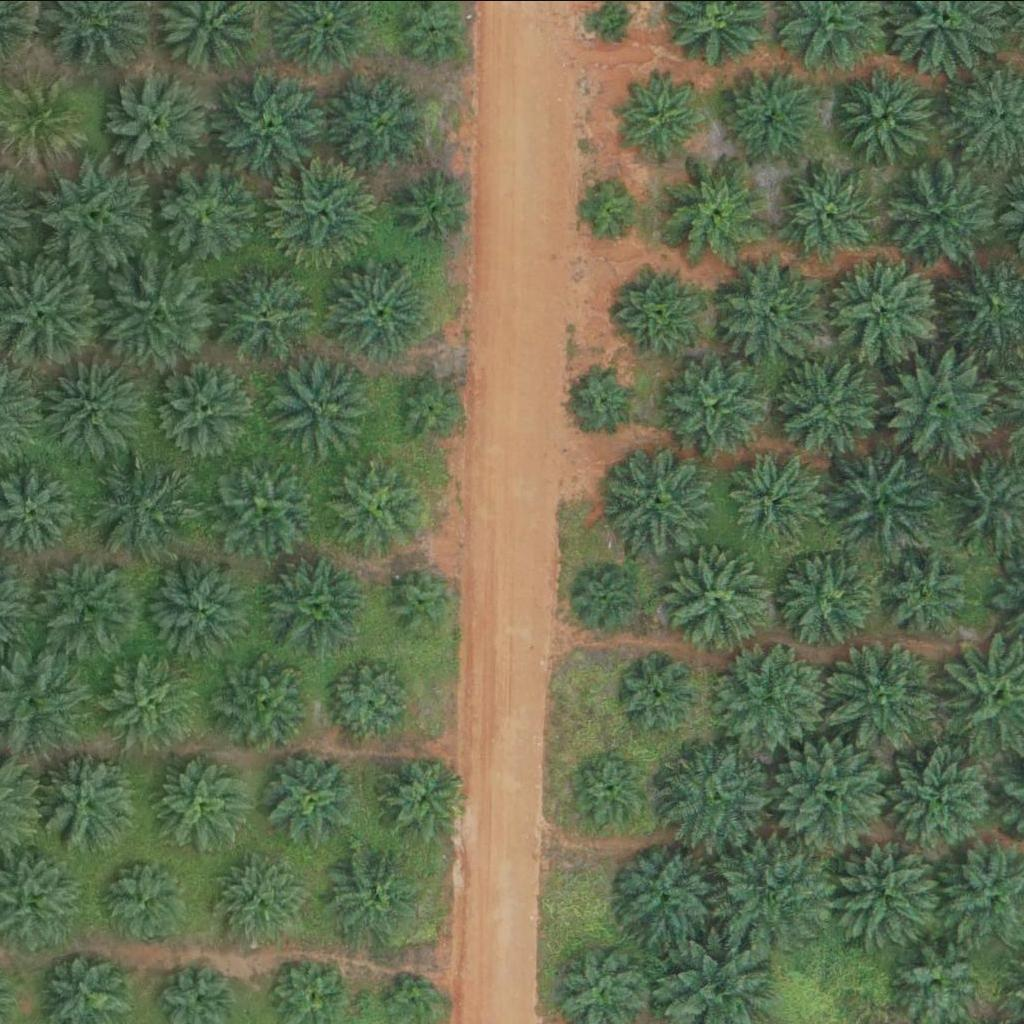Kelapa_Sawit: (715, 826, 841, 951), (880, 732, 1006, 857), (822, 631, 948, 756), (813, 440, 939, 565), (882, 340, 1008, 465), (825, 244, 950, 369), (39, 155, 153, 268), (833, 832, 947, 945), (212, 66, 325, 179), (715, 640, 828, 753), (771, 738, 885, 850), (273, 154, 386, 266), (105, 259, 218, 371), (656, 743, 769, 855), (330, 72, 431, 172), (221, 263, 322, 363), (328, 259, 429, 359), (44, 357, 145, 457), (157, 356, 258, 456), (266, 356, 367, 456), (89, 457, 190, 557), (215, 455, 316, 555), (327, 455, 428, 555), (39, 549, 140, 649), (147, 555, 248, 655), (269, 554, 370, 654), (96, 648, 197, 748), (213, 649, 314, 749), (38, 750, 139, 850), (154, 751, 255, 851), (665, 548, 766, 648), (780, 549, 881, 649), (606, 446, 707, 546), (727, 452, 828, 552), (663, 355, 764, 455), (775, 355, 876, 455), (720, 260, 821, 360), (667, 158, 768, 258), (782, 163, 883, 263), (896, 162, 997, 262), (719, 66, 820, 166), (835, 64, 936, 164), (111, 68, 211, 168), (161, 162, 261, 262), (371, 748, 471, 848), (321, 842, 421, 942), (619, 847, 719, 947), (876, 542, 976, 642), (1, 75, 89, 163), (327, 655, 415, 743), (894, 935, 982, 1023), (619, 73, 707, 161), (267, 751, 355, 838), (98, 857, 186, 944), (210, 855, 298, 942), (616, 262, 704, 349), (577, 751, 653, 826), (386, 562, 462, 637), (621, 654, 696, 729), (400, 170, 475, 245), (394, 366, 469, 441), (575, 565, 638, 628), (573, 366, 636, 428), (574, 180, 637, 242)
